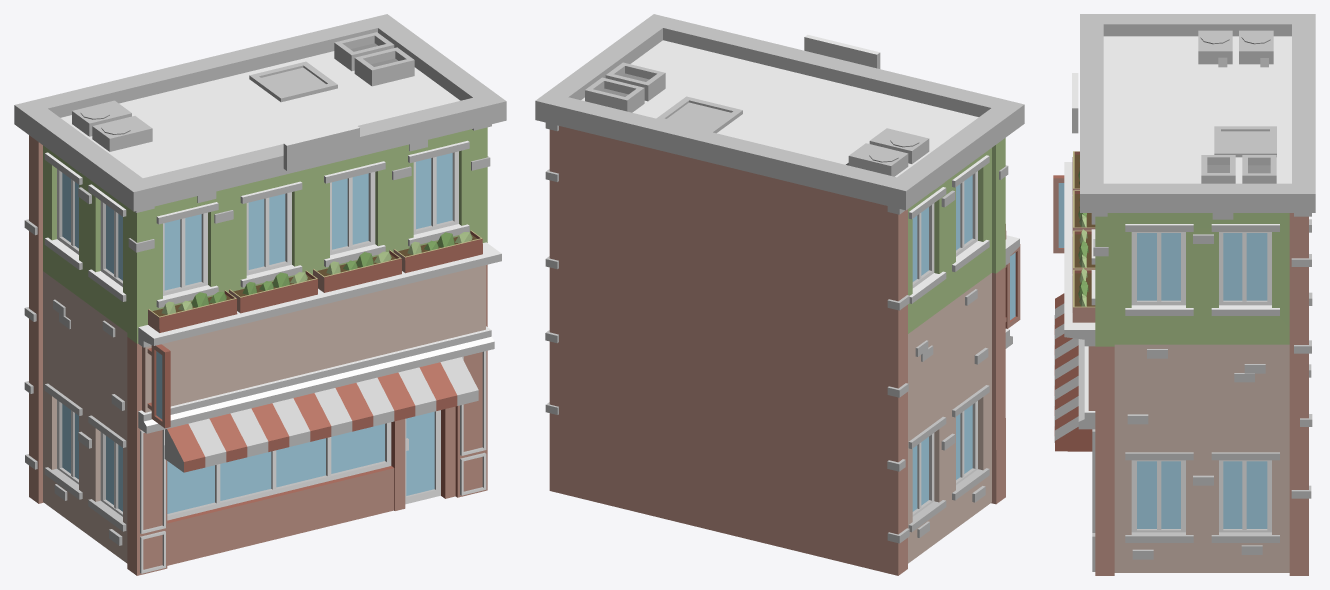
Rendered from house_small_2_006.glb.
3 views of the same model, side by side, from view 1: azimuth 30°, elevation 25°; view 2: azimuth 150°, elevation 25°; view 3: azimuth 270°, elevation 25° (orthographic).
Visible parts, largest first — view 1: house_small_2_006; view 2: house_small_2_006; view 3: house_small_2_006.
Part boxes in pixels (left/top/right/bottom): house_small_2_006: left=14, top=14, right=506, bottom=575; house_small_2_006: left=535, top=14, right=1024, bottom=575; house_small_2_006: left=1053, top=14, right=1315, bottom=575.
Size of the model in its own units: 7.2 by 7.48 by 4.44.
1 material, 1 textured.
